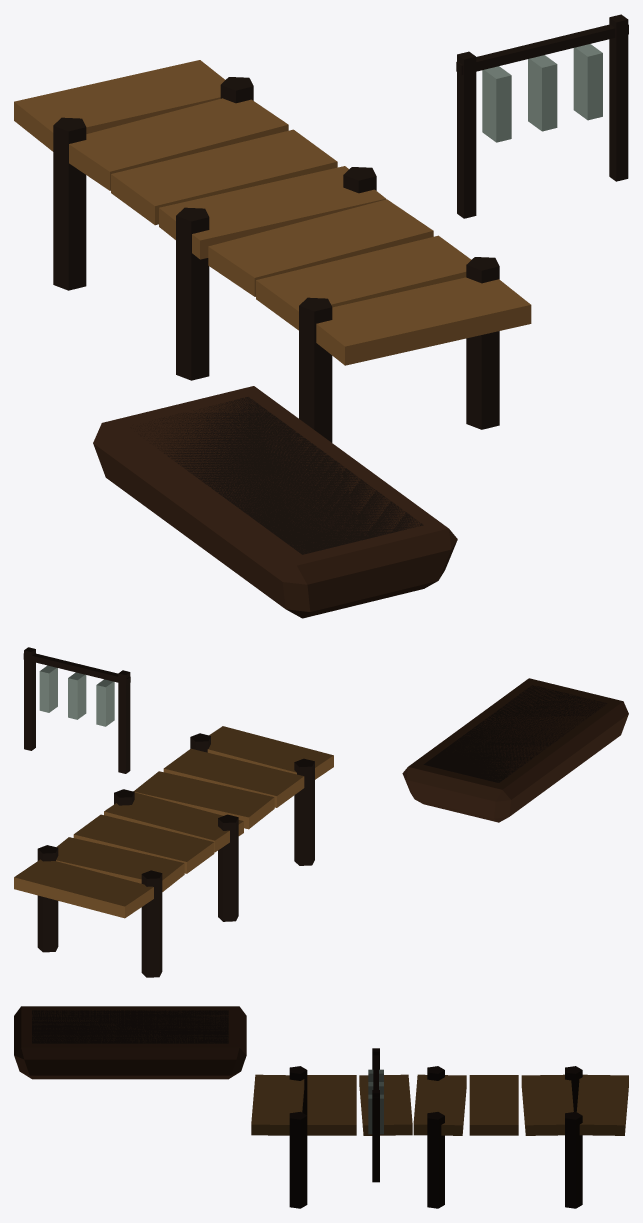
Rendered from fishery.obj.
3 views of the same model, one above another, from view 1: azimuth 30°, elevation 25°; view 2: azimuth 150°, elevation 25°; view 3: azimuth 270°, elevation 25° (orthographic). The views are drawn at different scales.
Parts seen in each view (by area): view 1: core_plank, core_wood_dark, core_wood, core_fish; view 2: core_plank, core_wood_dark, core_wood, core_fish; view 3: core_plank, core_wood_dark, core_wood, core_fish.
Part boxes in pixels (x1,y1,x2,y2): core_plank: (14,60,531,365); core_wood_dark: (53,14,628,554); core_wood: (93,386,457,618); core_fish: (482,44,602,142); core_plank: (14,726,333,918); core_wood_dark: (23,647,606,977); core_wood: (402,678,628,822); core_fish: (39,665,114,726); core_plank: (251,1074,628,1135); core_wood_dark: (32,1010,582,1208); core_wood: (14,1006,246,1079); core_fish: (368,1069,383,1134).
Bounding box in the file's own units: 0.4326 × 0.19 × 0.6254.
